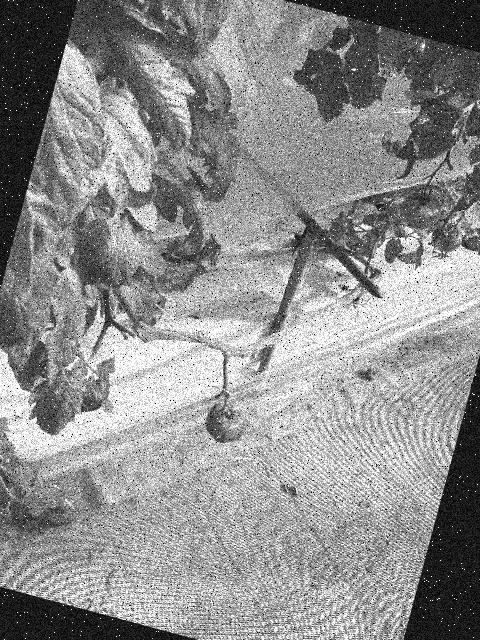b_fully_ripened: (199, 398, 250, 448), (428, 220, 466, 257)
b_half_ripened: (394, 188, 444, 235)
